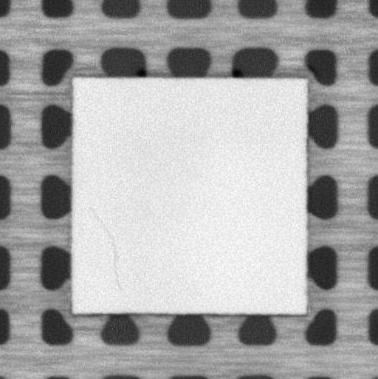DIE_CRACK: (89, 207, 123, 290)
